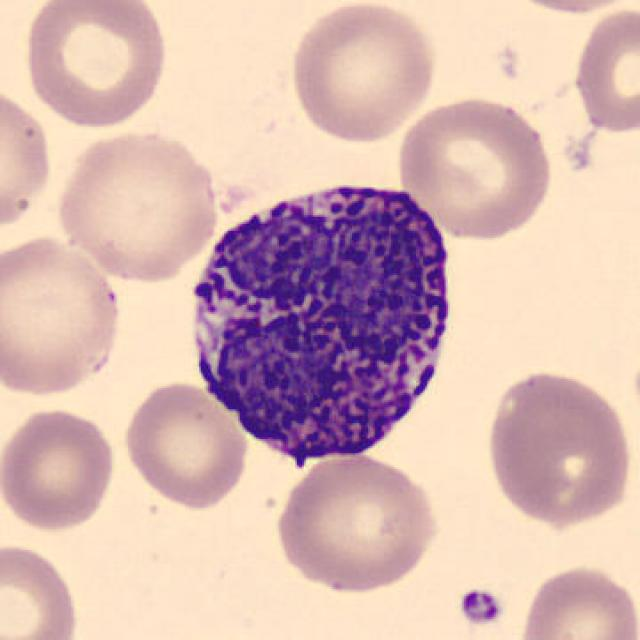Basophil: (171, 161, 471, 483)
Platelets: (455, 584, 509, 630)
RBC: (52, 125, 224, 286), (270, 448, 444, 596), (480, 365, 636, 529), (393, 91, 556, 242), (284, 0, 442, 145), (0, 231, 126, 402), (19, 0, 172, 130), (118, 377, 252, 513), (0, 404, 121, 534), (514, 560, 640, 640), (569, 3, 638, 138), (0, 78, 57, 240), (0, 539, 83, 640), (492, 0, 640, 16)
